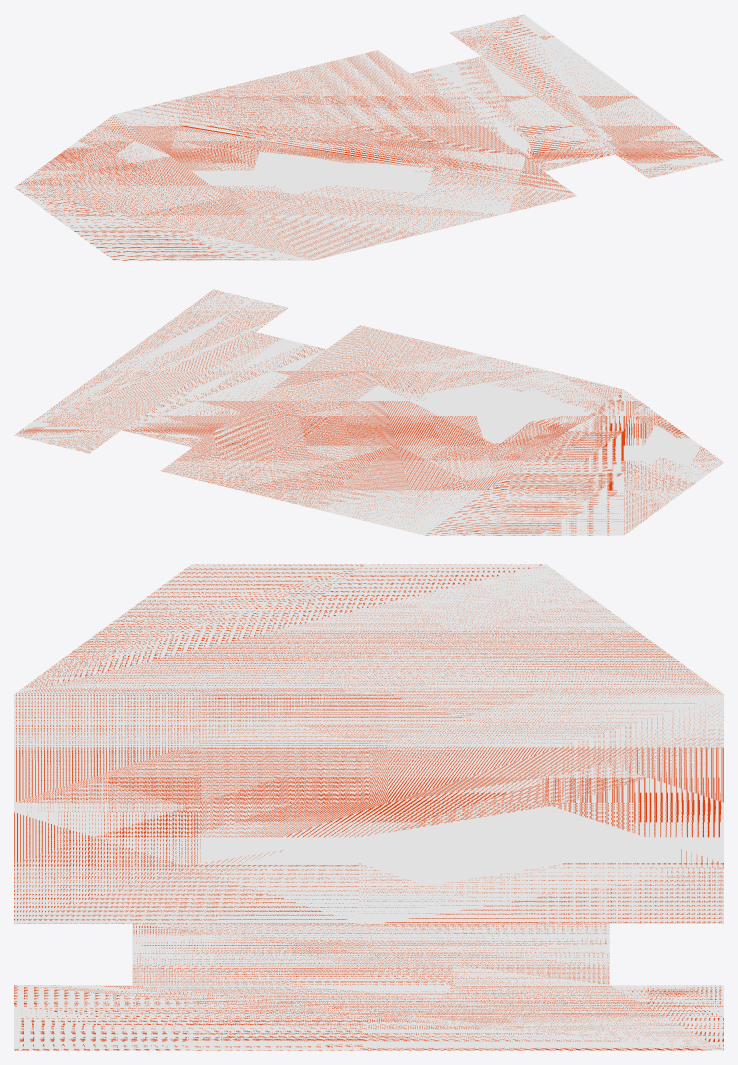
File: Bullet_Rounded.dae
3 views of the same model, one above another, from view 1: azimuth 30°, elevation 25°; view 2: azimuth 150°, elevation 25°; view 3: azimuth 270°, elevation 25° (orthographic). The views are drawn at different scales.
Parts seen in each view (by area): view 1: SketchUp; view 2: SketchUp; view 3: SketchUp.
Part boxes in pixels (x1,y1,x2,y2): SketchUp: (14, 14, 723, 260); SketchUp: (14, 289, 723, 535); SketchUp: (14, 564, 723, 1050).
Bounding box in the file's own units: 30.62 × 18.9 × 0.
